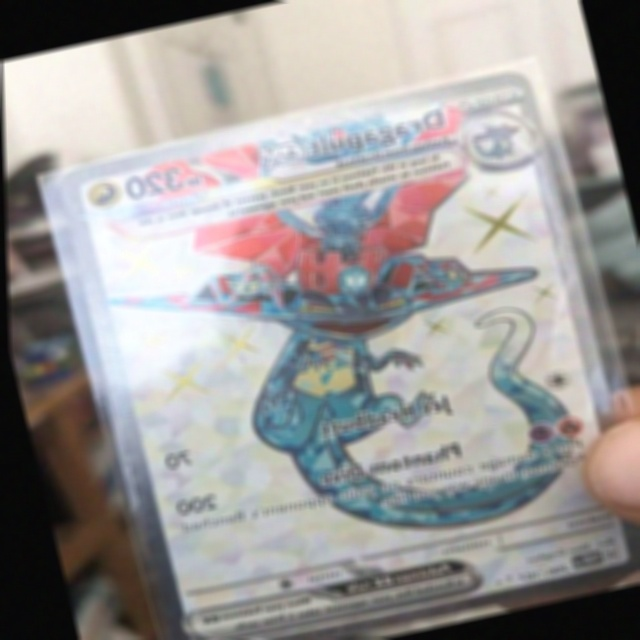card: (56, 70, 640, 640)
